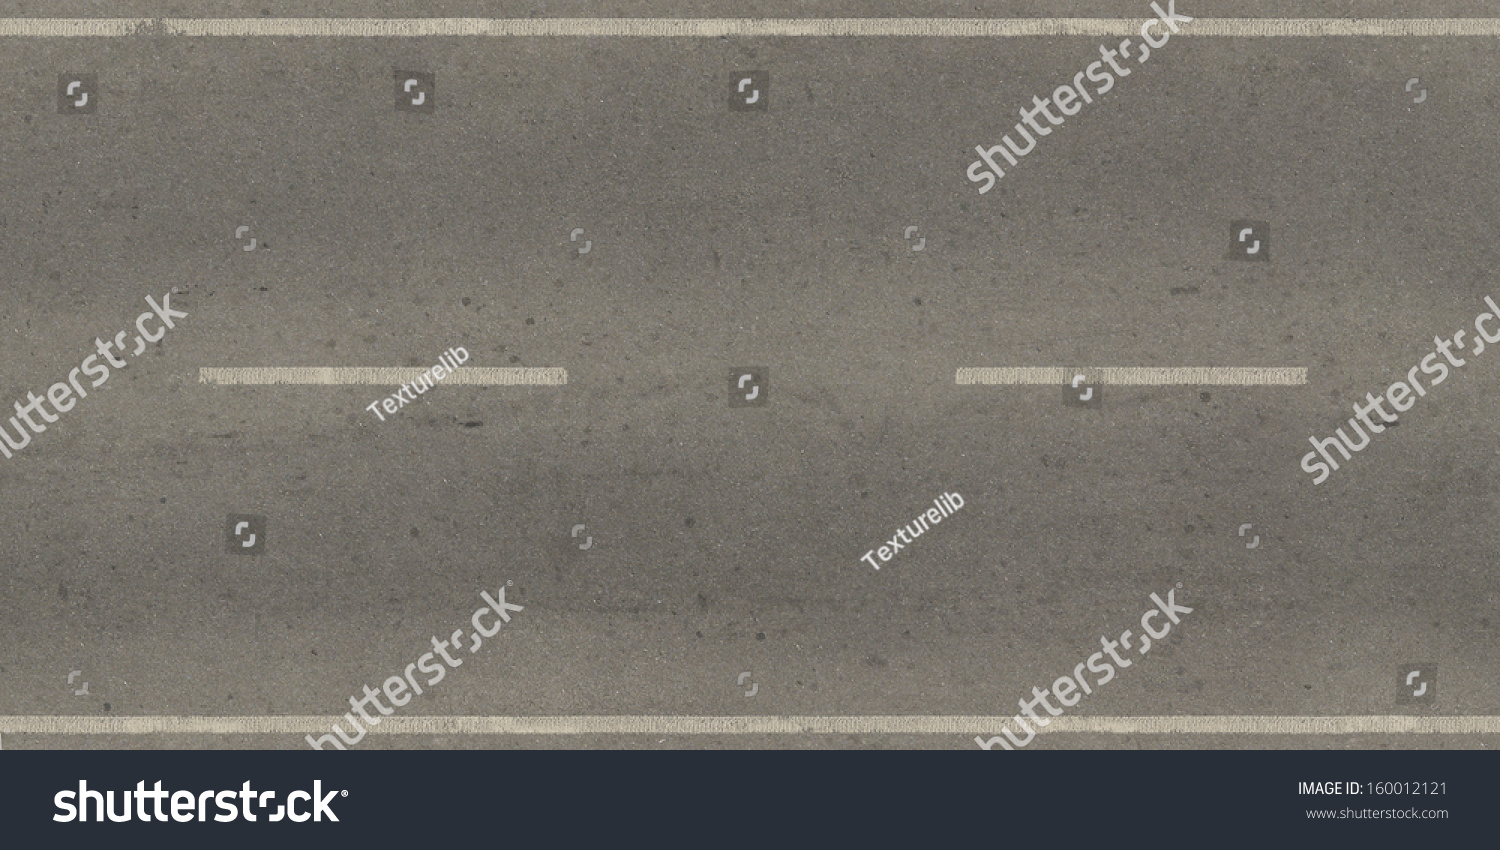LaneMark: (2, 15, 1500, 40), (5, 714, 1500, 732), (949, 362, 1311, 389), (190, 362, 570, 386)
